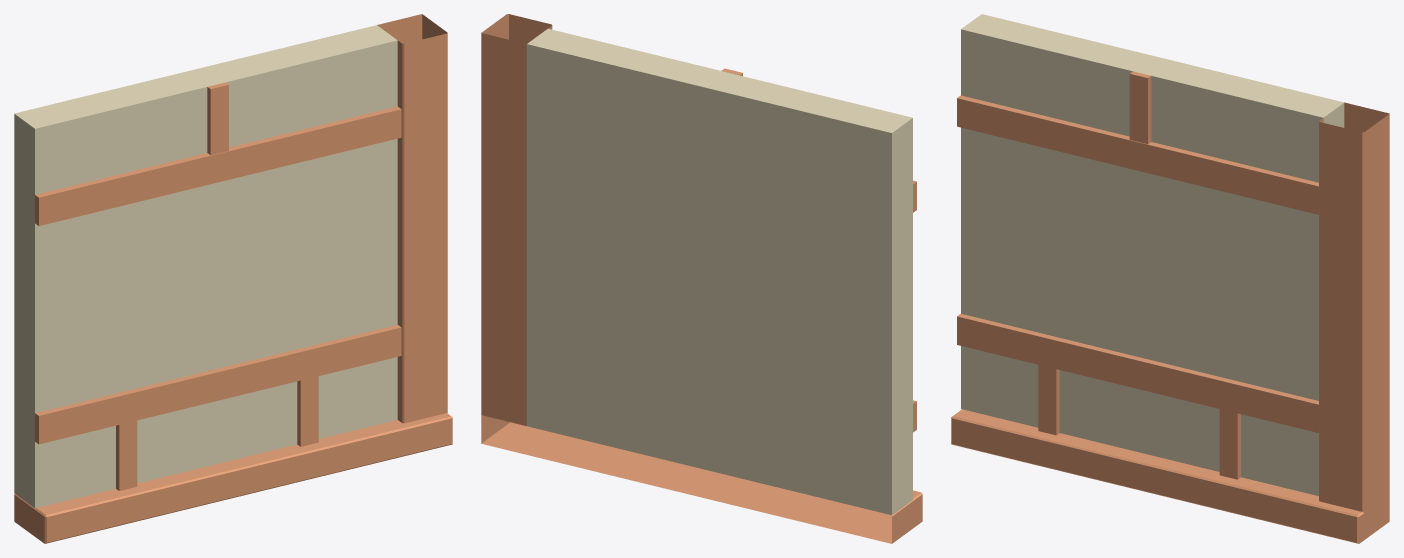
Rendered from Wall7_low.fbx.
3 renders of one model, left to right at view 1: azimuth 30°, elevation 25°; view 2: azimuth 150°, elevation 25°; view 3: azimuth 330°, elevation 25°, orthographic.
Visible parts, largest first — view 1: Wall7_low, Wall7_woodplank1_low, Wall7_woodframe1_low; view 2: Wall7_low, Wall7_woodplank1_low; view 3: Wall7_low, Wall7_woodplank1_low, Wall7_woodframe1_low.
Boxes of the visible parts, x1,y1,x2,y2 form: Wall7_low: (14, 25, 397, 508); Wall7_woodplank1_low: (14, 14, 452, 543); Wall7_woodframe1_low: (35, 82, 401, 490); Wall7_low: (526, 28, 912, 515); Wall7_woodplank1_low: (481, 14, 922, 543); Wall7_low: (961, 14, 1344, 495); Wall7_woodplank1_low: (951, 102, 1389, 543); Wall7_woodframe1_low: (957, 71, 1318, 479).
Size of the model in its own units: 450 by 430 by 60.
